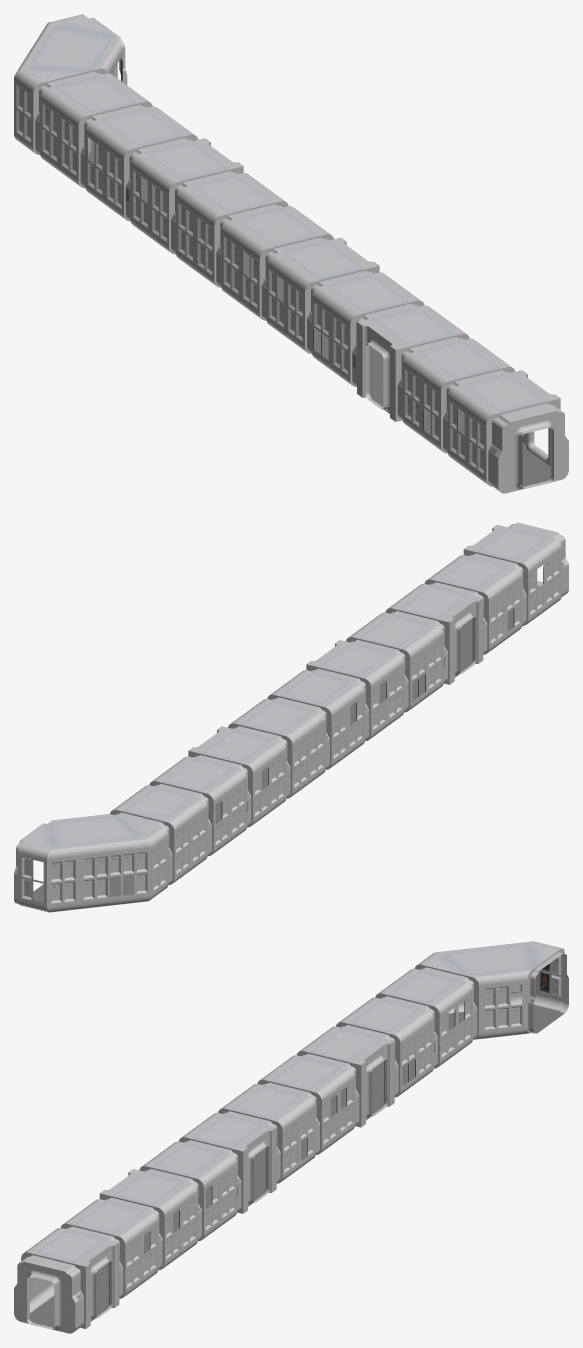
Rendered from thm_spc_corvette_dungeon_r37_hall37_mesh_r37.fbx.
3 renders of one model, top to bottom at view 1: azimuth 30°, elevation 25°; view 2: azimuth 150°, elevation 25°; view 3: azimuth 330°, elevation 25°, orthographic. The views are drawn at different scales.
Visible parts, largest first — view 1: mesh_node; view 2: mesh_node; view 3: mesh_node.
Boxes of the visible parts, x1,y1,x2,y2 form: mesh_node: (14, 14, 568, 493); mesh_node: (14, 522, 568, 912); mesh_node: (14, 941, 568, 1333).
Bounding box in the file's own units: 6 × 3.5 × 47.
